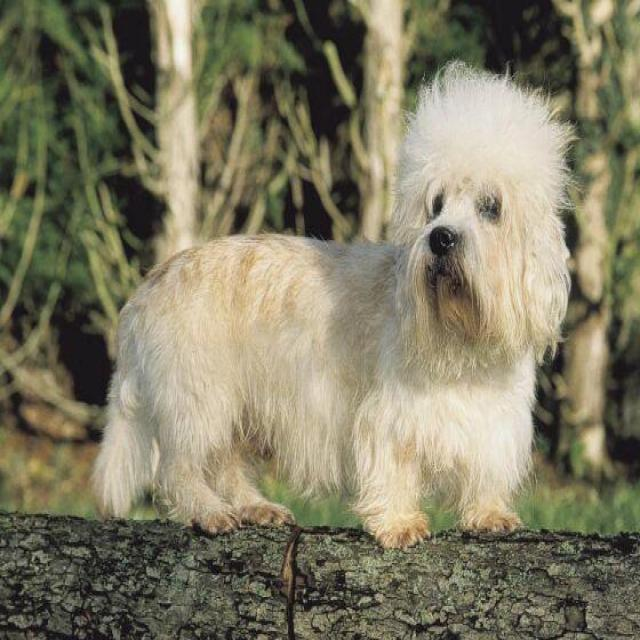dandie_dinmont: (91, 59, 576, 553)
